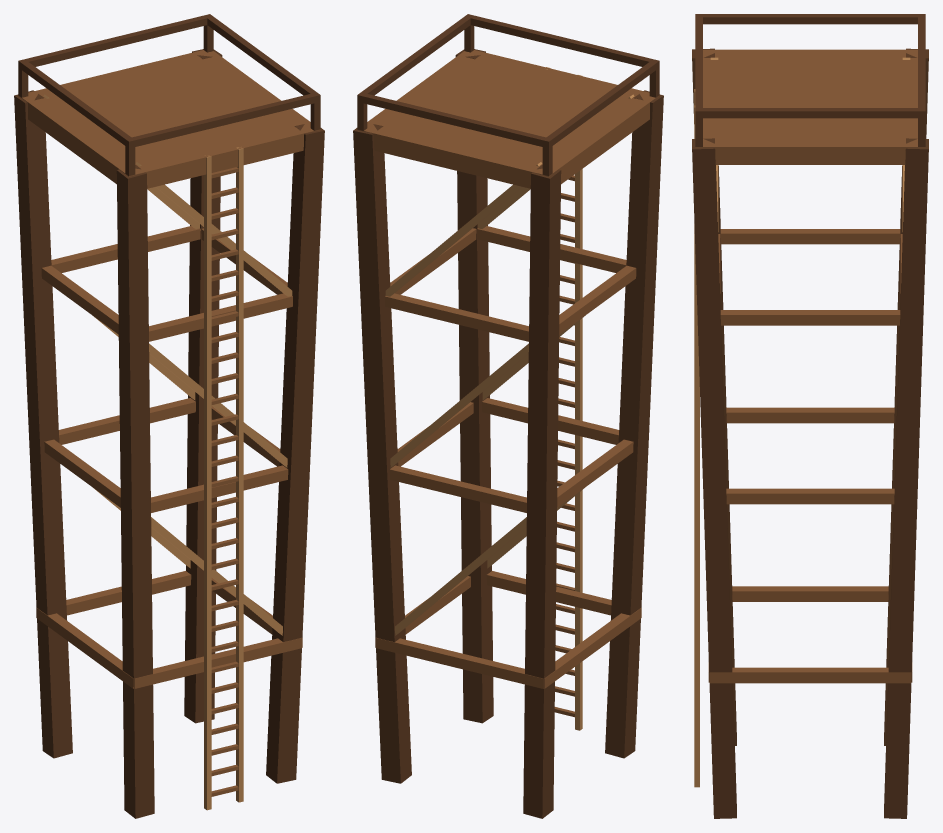
File: LookoutTower.fbx
3 views of the same model, side by side, from view 1: azimuth 30°, elevation 25°; view 2: azimuth 150°, elevation 25°; view 3: azimuth 270°, elevation 25° (orthographic). The views are drawn at different scales.
Parts seen in each view (by area): view 1: Frame, Deck, Ladder, Rail; view 2: Frame, Deck, Rail, Ladder; view 3: Frame, Deck, Rail, Ladder.
Boxes of the visible parts, left/top/right/bottom form: Frame: left=14, top=49, right=324, bottom=818; Deck: left=18, top=50, right=320, bottom=188; Ladder: left=204, top=147, right=243, bottom=810; Rail: left=18, top=14, right=320, bottom=175; Frame: left=353, top=49, right=663, bottom=818; Deck: left=357, top=50, right=659, bottom=188; Rail: left=357, top=14, right=659, bottom=175; Ladder: left=545, top=67, right=582, bottom=730; Frame: left=692, top=48, right=928, bottom=818; Deck: left=695, top=49, right=925, bottom=164; Rail: left=695, top=14, right=925, bottom=146; Ladder: left=694, top=89, right=699, bottom=787.
Size of the model in its own units: 12 by 40 by 12.
